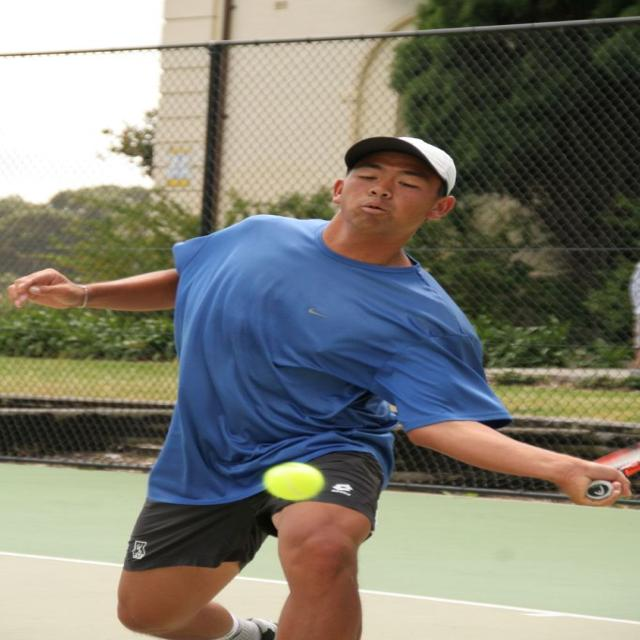Tennis ball: (264, 463, 322, 503)
